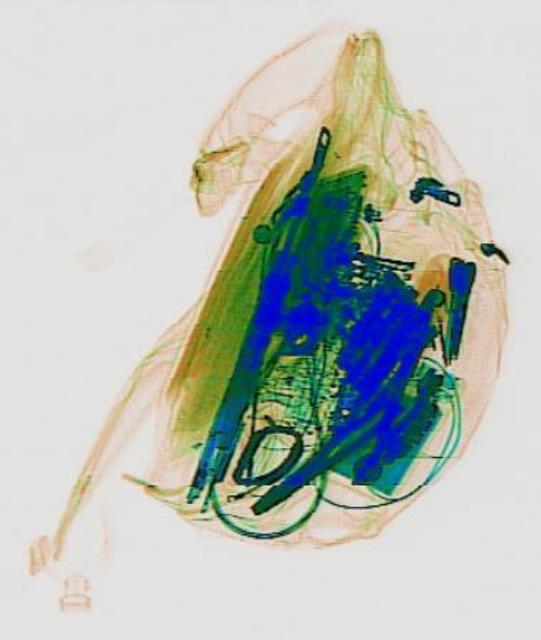Pliers: (240, 384, 405, 524)
